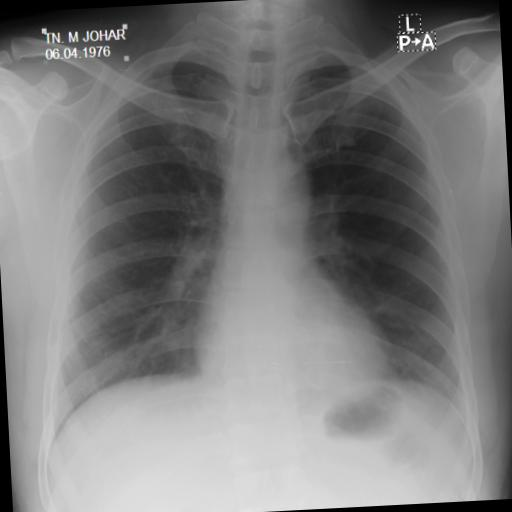normal: (14, 30, 482, 476)
